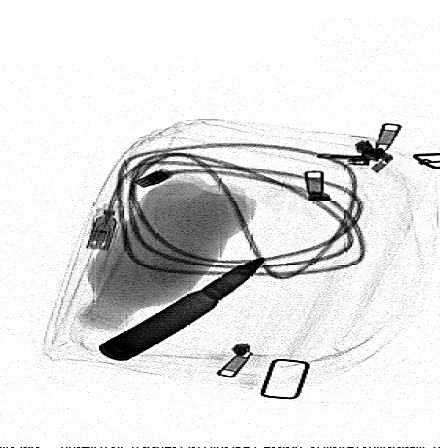Bullet: (95, 255, 267, 362)
